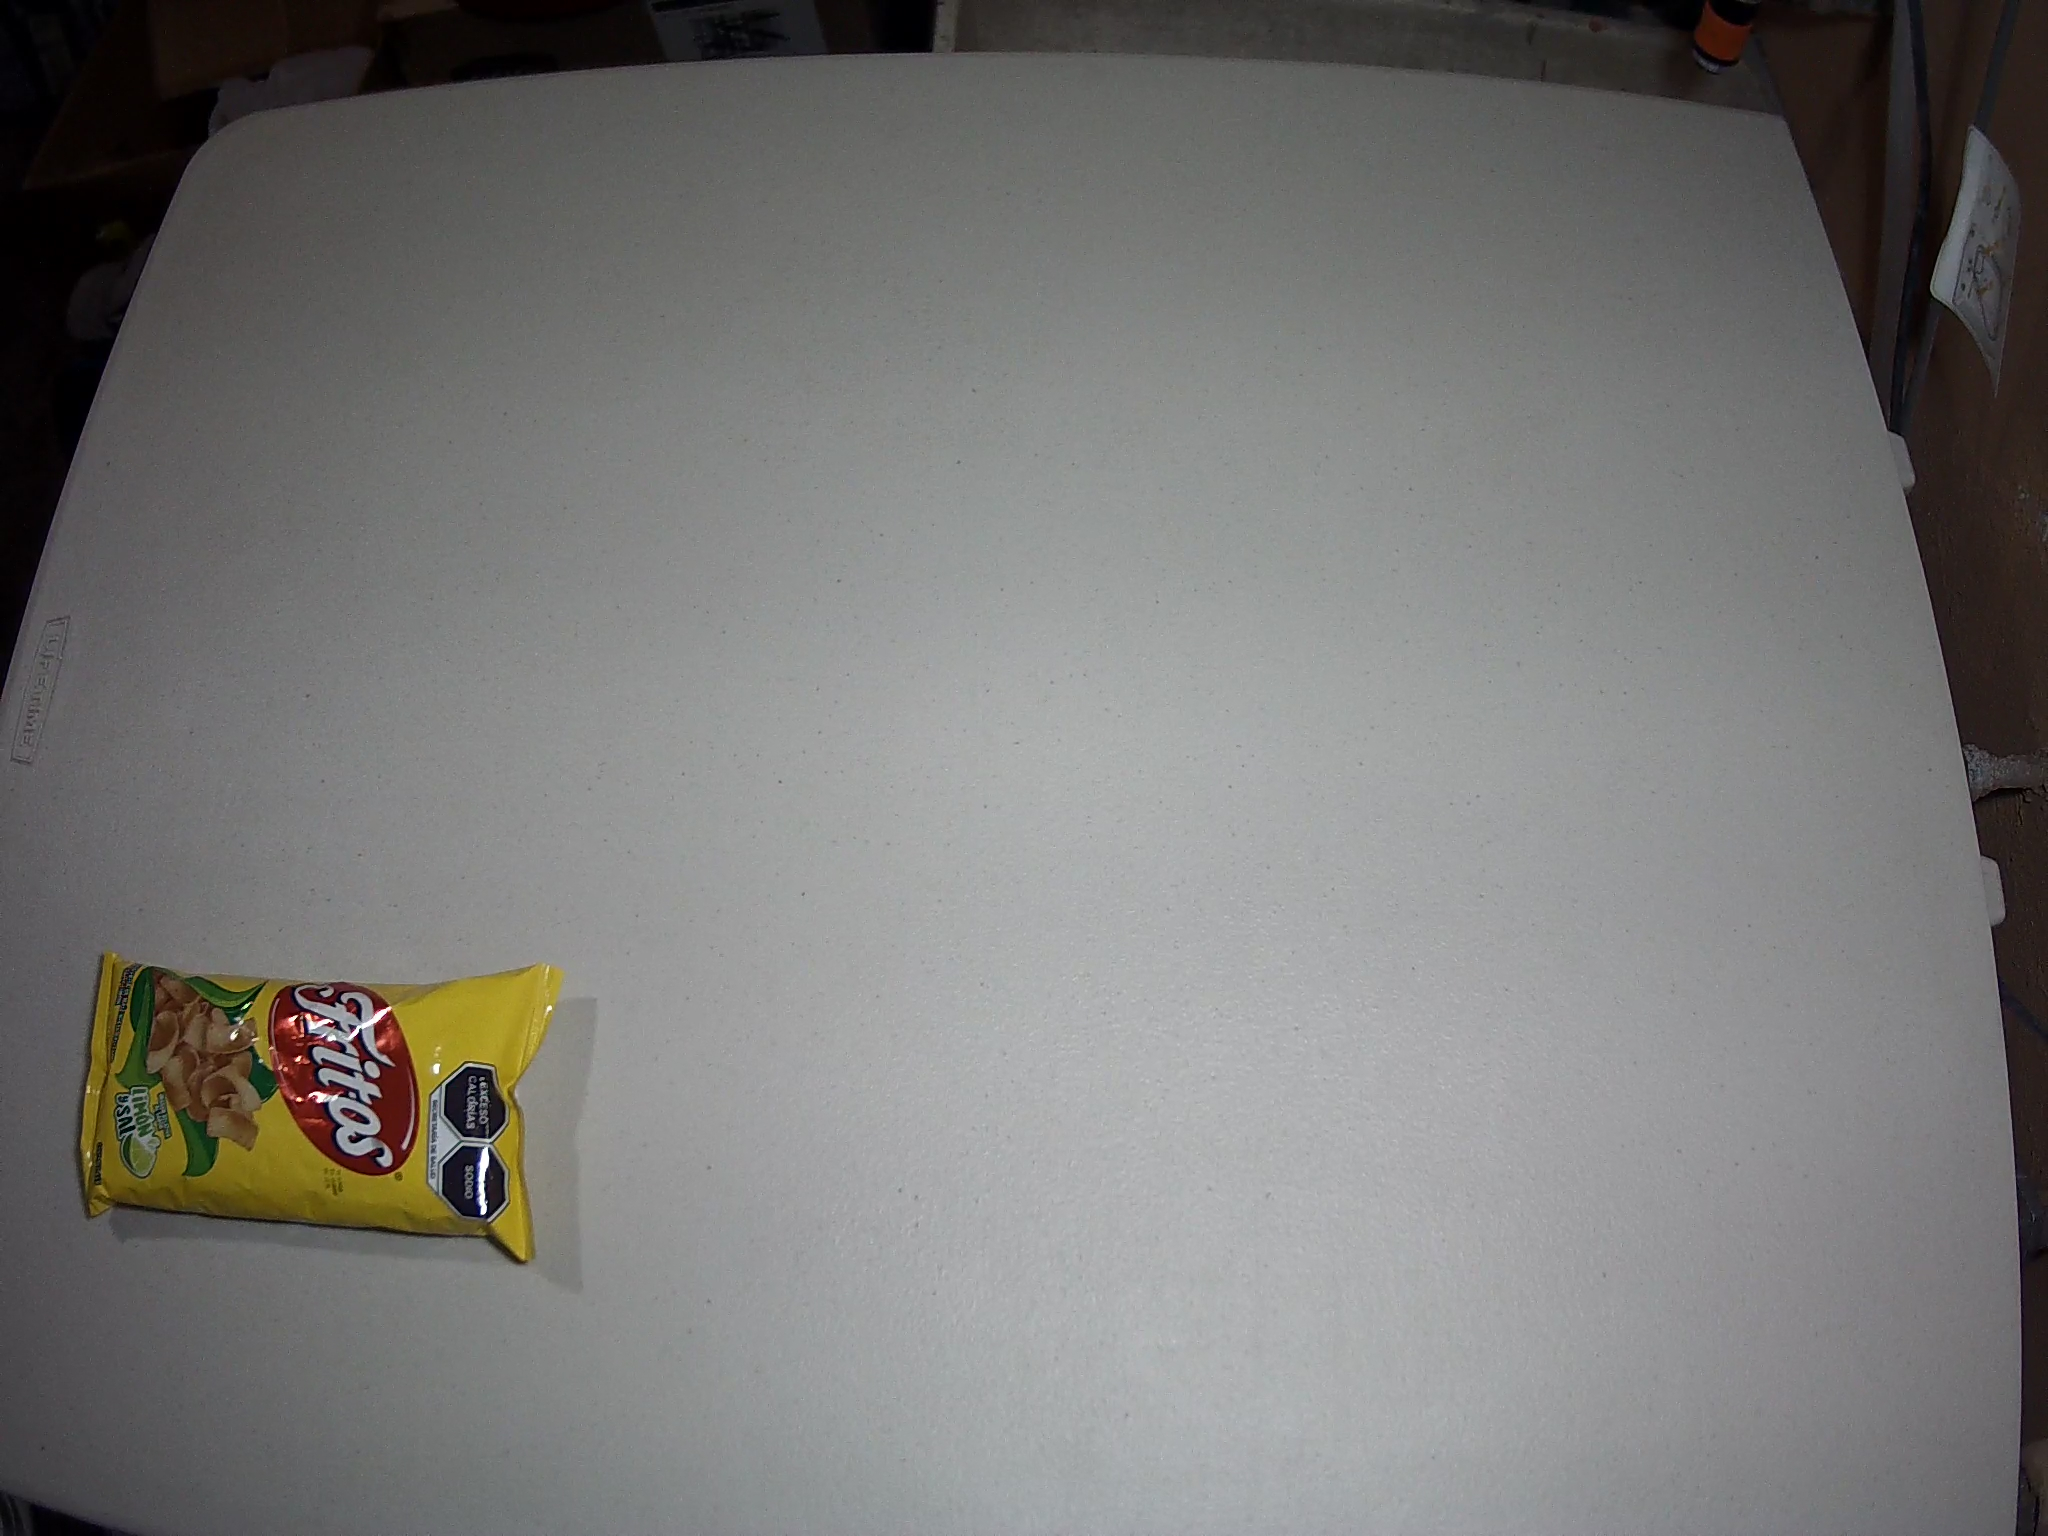FritosSalLimon_65_F: (76, 950, 563, 1265)
